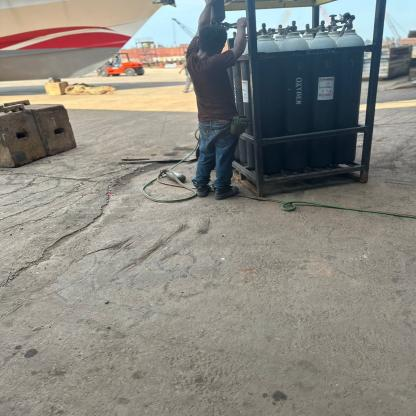bota: (213, 184, 240, 201), (190, 181, 213, 197)
